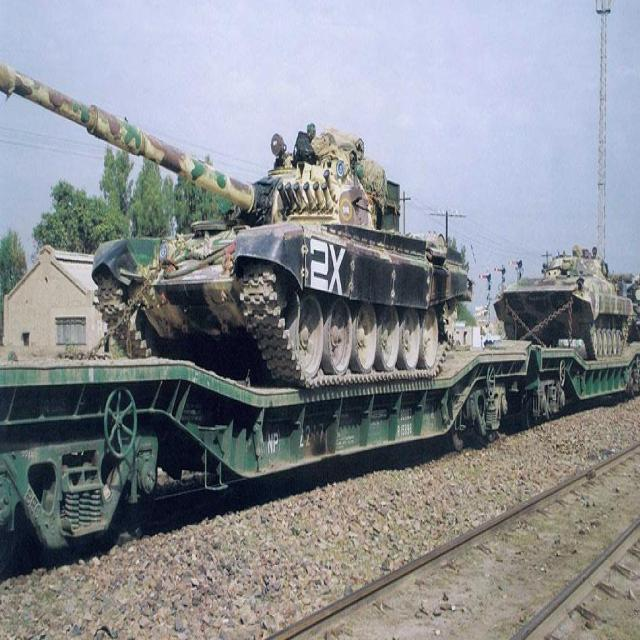Tanks: (117, 77, 475, 363), (508, 248, 626, 353)
